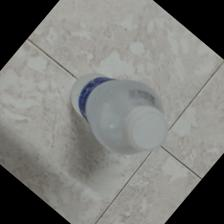Aquafina: (66, 68, 170, 167)
